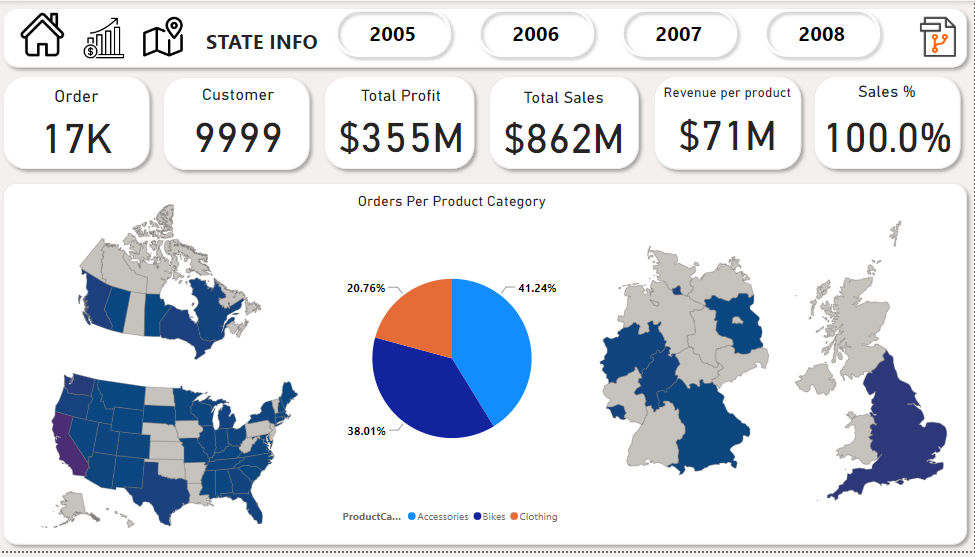

This screenshot's page, from the dashboard's own definition file:
{"tool":"powerbi","page":{"name":"PAGE 3","canvas":[1280,720],"ordinal":2},"visuals":[{"type":"shape","box":[0,0,1280,96],"z":0},{"type":"shape","box":[1061.7,89.7,210,140],"z":0,"group":"g6"},{"type":"group","id":"g1","title":"Group 1","box":[0,89.7,209.3,140.6],"z":1000},{"type":"card","title":"Sales %","fields":{"Values":["factSalesTable.sales%"]},"box":[1072.2,106.1,188.4,106.2],"z":1000,"group":"g6"},{"type":"group","id":"g2","title":"Group 3","box":[420.3,89.7,215.3,140.6],"z":2000},{"type":"shape","box":[636.1,89.7,214.1,140.1],"z":2000,"group":"g4"},{"type":"shape","box":[0,89.7,210,140],"z":3000,"group":"g1"},{"type":"group","id":"g3","title":"Group 5","box":[851.9,89.7,209.3,140.6],"z":3000},{"type":"shape","box":[851.9,89.7,210.9,140.6],"z":3000,"group":"g3"},{"type":"group","id":"g4","title":"Group 6","box":[636.1,89.7,215.3,140.6],"z":4000},{"type":"card","title":"Total Sales","fields":{"Values":["key mesure.Total_Sales"]},"box":[650.8,114.2,185,93.9],"z":4000,"group":"g4"},{"type":"image","box":[26,10.8,69.4,67.3],"z":5000},{"type":"card","title":"Order","fields":{"Values":["key mesure.num_of_orders"]},"box":[25.9,111.3,158.2,96.7],"z":6000,"group":"g1"},{"type":"shape","box":[0,228.6,1280,491.4],"z":6000},{"type":"actionButton","box":[434.9,1.1,169.9,80.6],"z":7000},{"type":"shape","box":[209.8,89.9,210,140],"z":7000,"group":"g5"},{"type":"shape","box":[420.3,89.7,215,140],"z":8000,"group":"g2"},{"type":"group","id":"g5","title":"Group 7","box":[209.8,89.9,210,140],"z":8000},{"type":"card","title":"Revenue per product","fields":{"Values":["factSalesTable.revenue per product"]},"box":[861.6,109.2,192,99.4],"z":9000,"group":"g3"},{"type":"group","id":"g6","title":"Group 4","box":[1061.7,89.7,210,140],"z":10000},{"type":"card","title":"Total Profit","fields":{"Values":["key mesure.TotalProfit"]},"box":[443,112.6,175.2,97.9],"z":10002,"group":"g2"},{"type":"shapeMap","fields":{"Category":["dimRegionTable.Region"]},"box":[1029.6,250.6,230.4,442.1],"z":11000},{"type":"card","title":"Customer","fields":{"Values":["key mesure.num_of_customers"]},"box":[242.3,110.1,149.4,98.1],"z":12000,"group":"g5"},{"type":"shapeMap","fields":{"Category":["dimRegionTable.Region"]},"box":[774.1,250,255.2,441.4],"z":12000},{"type":"shapeMap","fields":{"Category":["dimRegionTable.Region"]},"box":[21.4,471.4,412.9,234.3],"z":13000},{"type":"shapeMap","fields":{"Category":["dimRegionTable.Region"]},"box":[21.4,250,412.9,235.7],"z":14000},{"type":"pieChart","title":"Orders Per Product Category","fields":{"Category":["dimProductCategoryTable.ProductCategoryName","dimRegionTable.Region"],"Y":["key mesure.num_of_orders"]},"box":[420.7,250,353.4,443.1],"z":15000},{"type":"image","box":[184.3,15.8,67.7,61.9],"z":16000},{"type":"actionButton","box":[622.1,1.1,169.9,80.6],"z":17000},{"type":"actionButton","box":[809.3,1.1,169.9,80.6],"z":18000},{"type":"actionButton","box":[996.5,1.1,169.9,80.6],"z":19000},{"type":"textbox","box":[262.1,28.8,172.8,49],"z":20000},{"type":"image","box":[109,16.4,64.2,62.7],"z":21000},{"type":"image","box":[1197,10.4,73.1,73.1],"z":21001}]}

Visuals, with their boxes in screenshot pixels (x1, y1, x2, y2), scaled from the page's 1280x720 canvas onto the 975x557 screenshot:
shape: bbox(0, 0, 974, 74)
shape: bbox(809, 69, 969, 178)
"Group 1" group: bbox(0, 69, 159, 178)
"Sales %" card: bbox(817, 82, 960, 164)
"Group 3" group: bbox(320, 69, 484, 178)
shape: bbox(485, 69, 648, 178)
shape: bbox(0, 69, 160, 178)
"Group 5" group: bbox(649, 69, 808, 178)
shape: bbox(649, 69, 810, 178)
"Group 6" group: bbox(485, 69, 649, 178)
"Total Sales" card: bbox(496, 88, 637, 161)
image: bbox(20, 8, 73, 60)
"Order" card: bbox(20, 86, 140, 161)
shape: bbox(0, 177, 974, 556)
actionButton: bbox(331, 1, 461, 63)
shape: bbox(160, 70, 320, 178)
shape: bbox(320, 69, 484, 178)
"Group 7" group: bbox(160, 70, 320, 178)
"Revenue per product" card: bbox(656, 84, 803, 161)
"Group 4" group: bbox(809, 69, 969, 178)
"Total Profit" card: bbox(337, 87, 471, 163)
shapeMap - dimRegionTable.Region: bbox(784, 194, 960, 536)
"Customer" card: bbox(185, 85, 298, 161)
shapeMap - dimRegionTable.Region: bbox(590, 193, 784, 535)
shapeMap - dimRegionTable.Region: bbox(16, 365, 331, 546)
shapeMap - dimRegionTable.Region: bbox(16, 193, 331, 376)
"Orders Per Product Category" pieChart: bbox(320, 193, 590, 536)
image: bbox(140, 12, 192, 60)
actionButton: bbox(474, 1, 603, 63)
actionButton: bbox(616, 1, 746, 63)
actionButton: bbox(759, 1, 888, 63)
textbox: bbox(200, 22, 331, 60)
image: bbox(83, 13, 132, 61)
image: bbox(912, 8, 967, 65)
